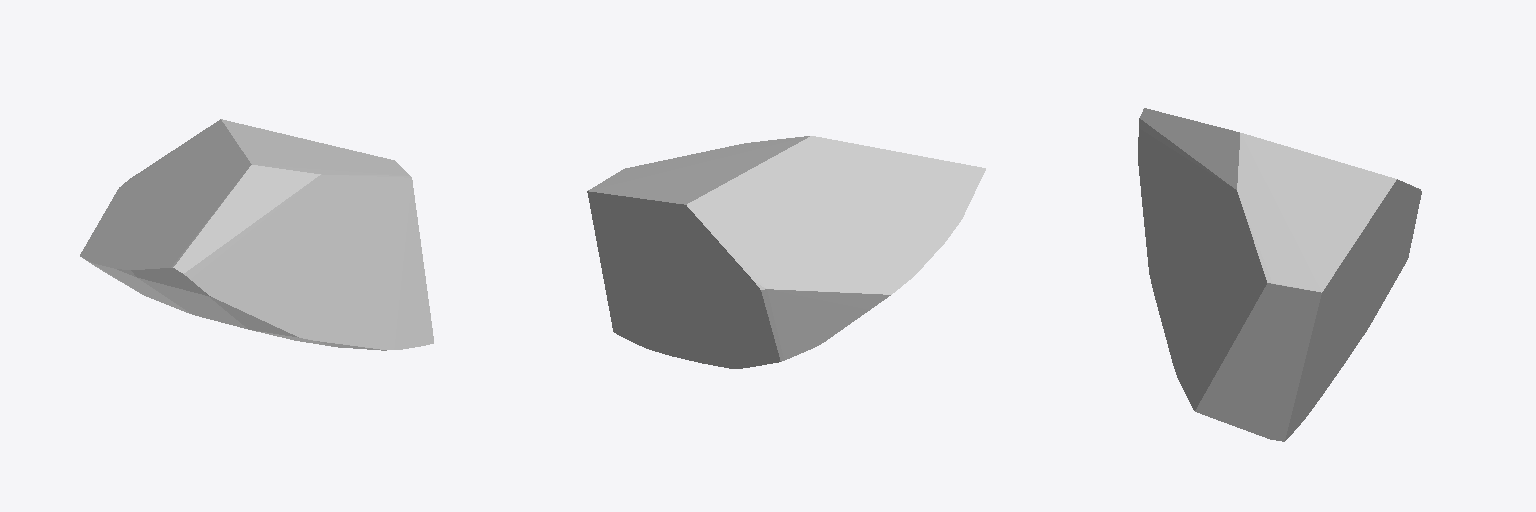
Rendered from Sphere_Cell_Fracture3.obj.
3 views of the same model, side by side, from view 1: azimuth 30°, elevation 25°; view 2: azimuth 150°, elevation 25°; view 3: azimuth 270°, elevation 25° (orthographic).
Bounding box in the file's own units: 0.6093 × 0.4075 × 0.4698.